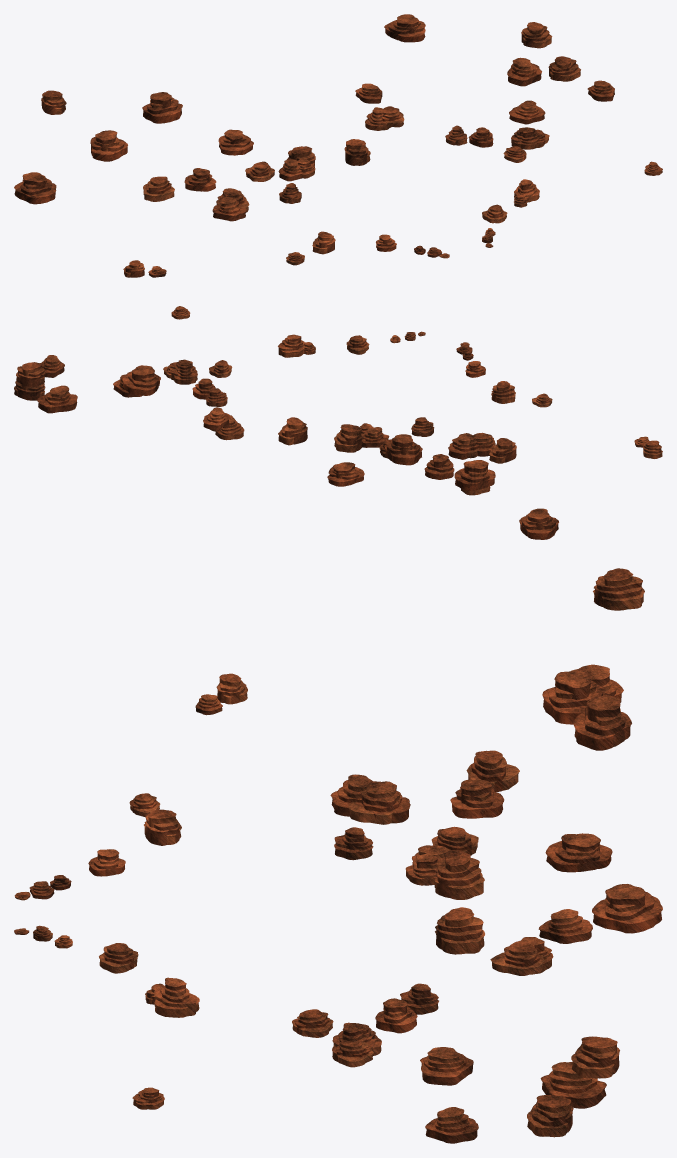
File: mars_ledges.glb
The picture shows the model from 3 angles, top to bottom: view 1: azimuth 30°, elevation 25°; view 2: azimuth 150°, elevation 25°; view 3: azimuth 270°, elevation 25°; orthographic projection. The views are drawn at different scales.
Visible parts, largest first — view 1: MarsLedges; view 2: MarsLedges; view 3: MarsLedges.
Boxes of the visible parts, x1,y1,x2,y2 form: MarsLedges: [14, 14, 662, 277]; MarsLedges: [14, 306, 662, 539]; MarsLedges: [14, 568, 662, 1143].
Size of the model in its own units: 343 by 55.77 by 206.
1 material, 1 textured.
